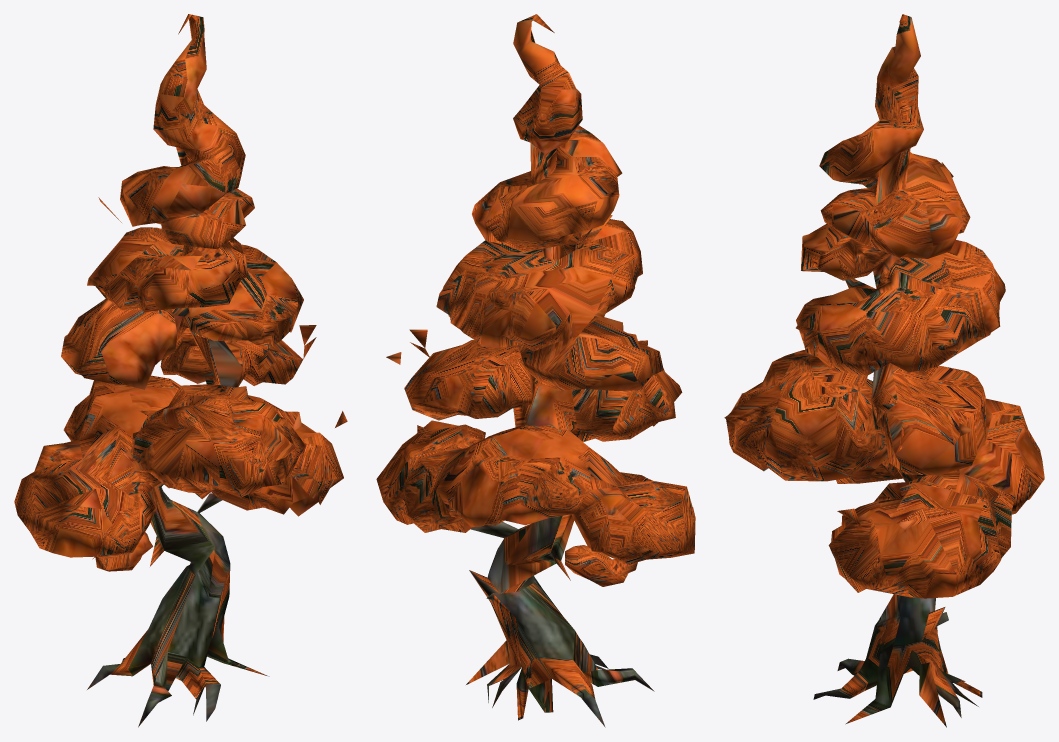
Rendered from Copper_Cloud_Bonsai.glb.
3 views of the same model, side by side, from view 1: azimuth 30°, elevation 25°; view 2: azimuth 150°, elevation 25°; view 3: azimuth 270°, elevation 25° (orthographic). The views are drawn at different scales.
Visible parts, largest first — view 1: Copper_Cloud_Bonsai; view 2: Copper_Cloud_Bonsai; view 3: Copper_Cloud_Bonsai.
Boxes of the visible parts, x1,y1,x2,y2 form: Copper_Cloud_Bonsai: [14, 14, 347, 727]; Copper_Cloud_Bonsai: [376, 14, 695, 727]; Copper_Cloud_Bonsai: [724, 14, 1044, 727].
Size of the model in its own units: 0.8514 by 1.85 by 0.7665.
Materials: 1 (1 with a texture image).
